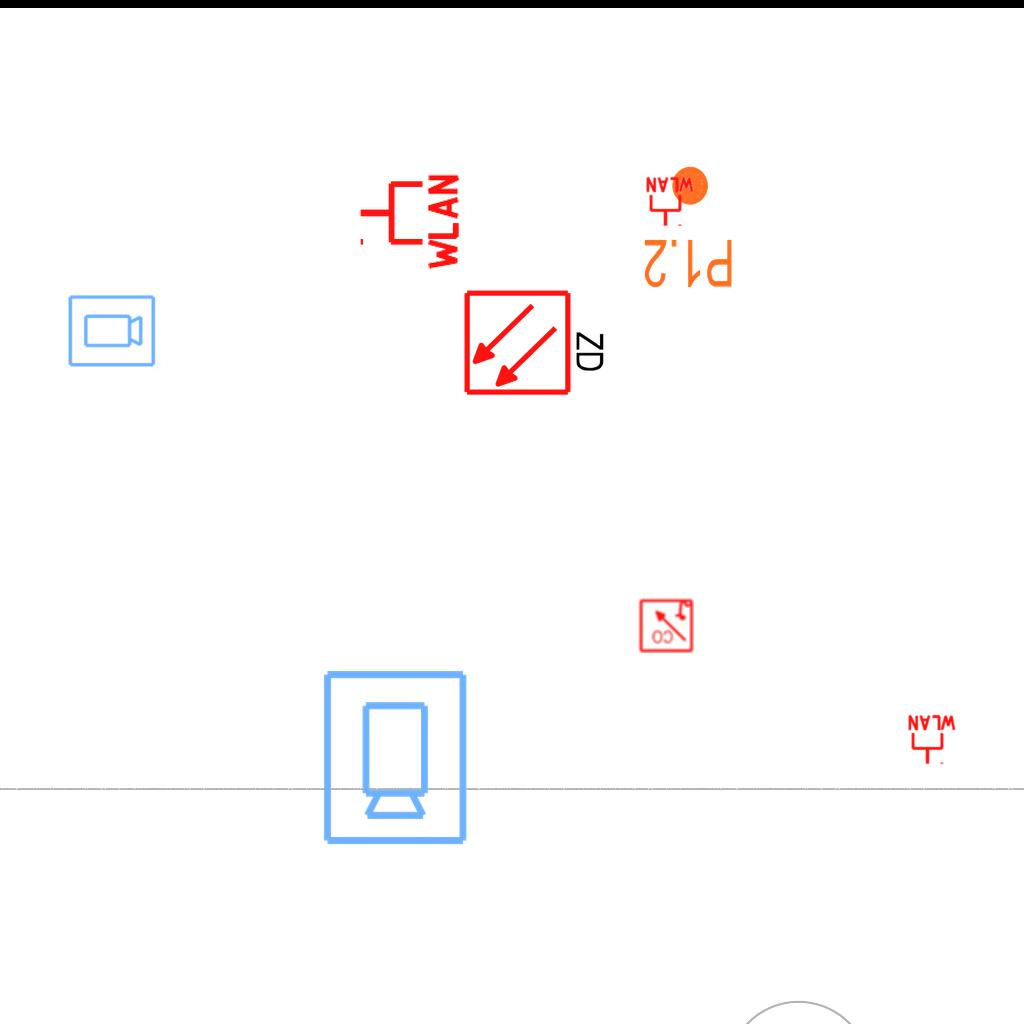Downlight_LED_Einbauleuchten_Flur: (642, 163, 735, 291)
KFO_Kamera_mit_Festobjektiv: (317, 666, 471, 848), (66, 293, 157, 370)
ROA_Rauchmelder_optisch_mit_Signalgeber_(Sockelsirene): (638, 597, 694, 653)
WLAN: (356, 170, 461, 274), (906, 714, 958, 766), (644, 176, 696, 228)
ZD_Melder_in_Zwischendecke_mit_Revisionsoeffnung_mind_40_x_40_cm: (462, 284, 611, 398)
